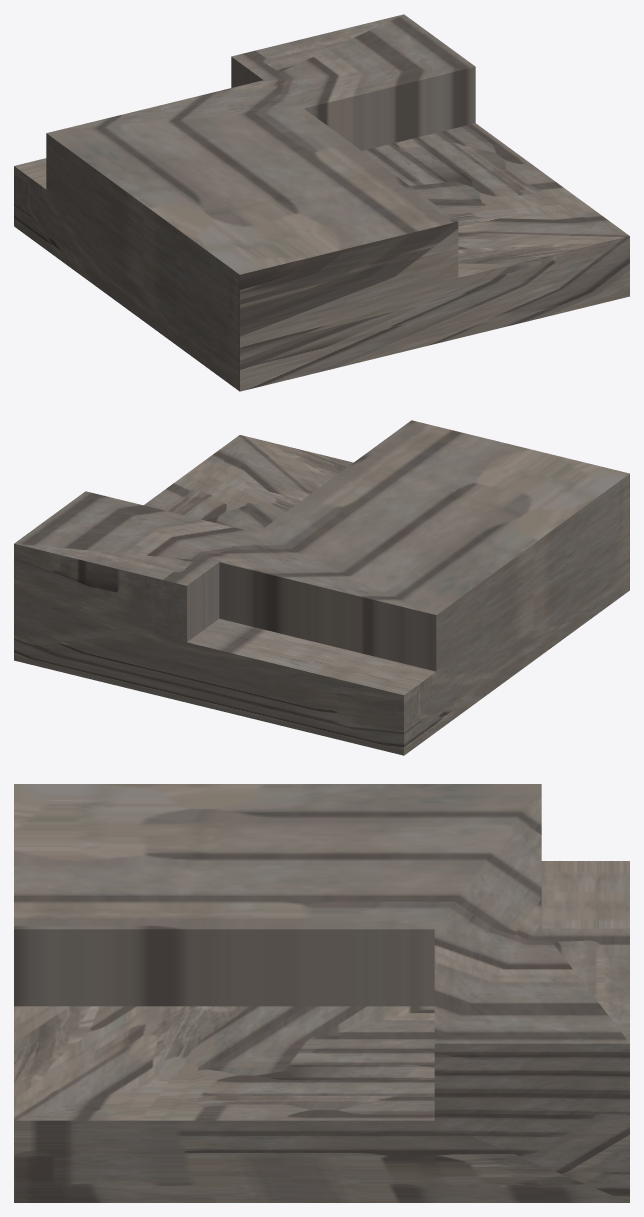
The model's file is sb_obj_outdoor009_AncientTemple_WallB_col.fbx.
The picture shows the model from 3 angles, top to bottom: view 1: azimuth 30°, elevation 25°; view 2: azimuth 150°, elevation 25°; view 3: azimuth 270°, elevation 25°; orthographic projection. The views are drawn at different scales.
Visible parts, largest first — view 1: sb_obj_outdoor009_AncientTemple_WallB_col; view 2: sb_obj_outdoor009_AncientTemple_WallB_col; view 3: sb_obj_outdoor009_AncientTemple_WallB_col.
Part boxes in pixels (x1,y1,x2,y2): sb_obj_outdoor009_AncientTemple_WallB_col: (14, 14, 629, 391); sb_obj_outdoor009_AncientTemple_WallB_col: (14, 420, 629, 755); sb_obj_outdoor009_AncientTemple_WallB_col: (14, 784, 629, 1202).
Bounding box in the file's own units: 3.61 × 1.03 × 3.62.
